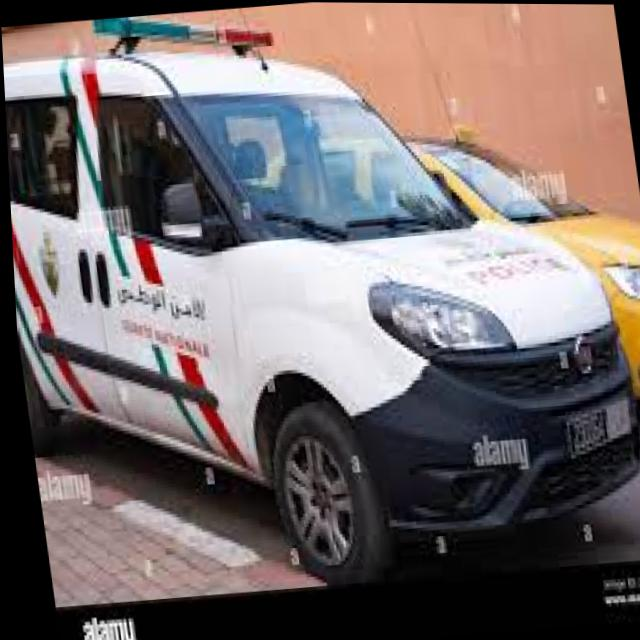Police car: (0, 0, 640, 607)
